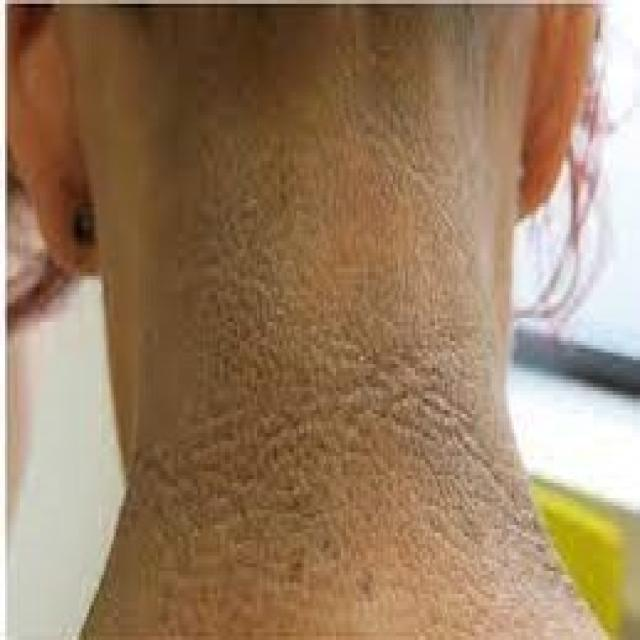Acanthosis Nigricans: (134, 118, 584, 629)
